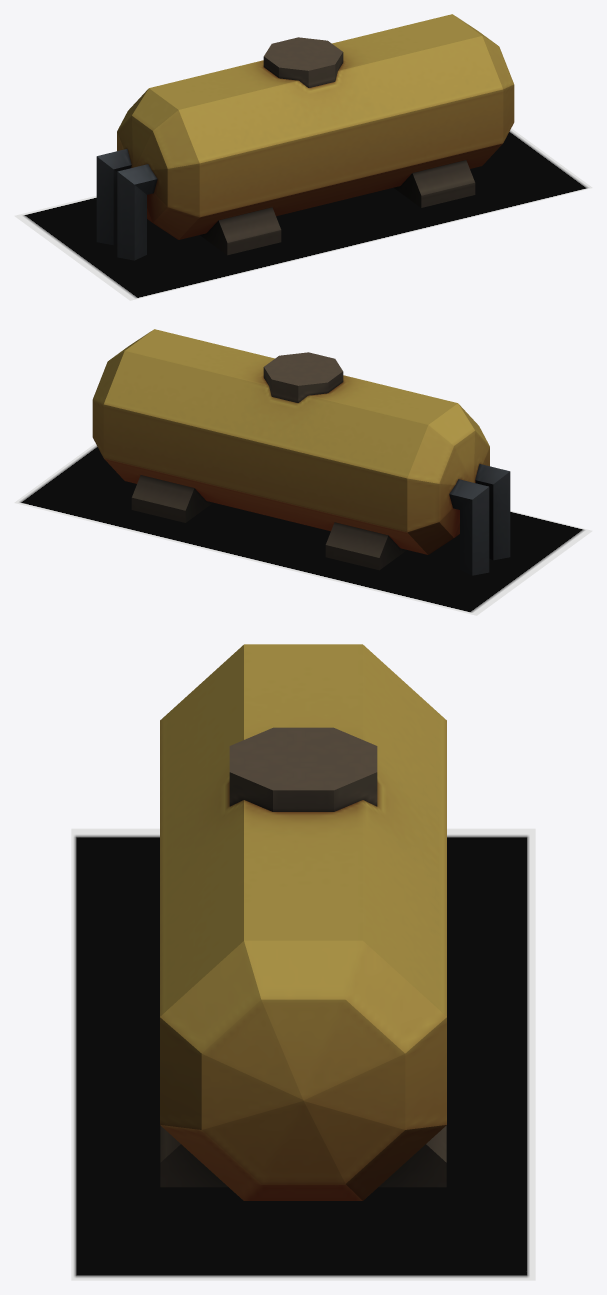
Rendered from 3x1_tank.FBX.
3 views of the same model, one above another, from view 1: azimuth 30°, elevation 25°; view 2: azimuth 150°, elevation 25°; view 3: azimuth 270°, elevation 25° (orthographic). The views are drawn at different scales.
Visible parts, largest first — view 1: 3x1_tank, 3x1_tank_soft_shadow; view 2: 3x1_tank, 3x1_tank_soft_shadow; view 3: 3x1_tank, 3x1_tank_soft_shadow.
Part boxes in pixels (x1,y1,x2,y2): 3x1_tank: (96, 14, 514, 260); 3x1_tank_soft_shadow: (14, 128, 592, 300); 3x1_tank: (92, 329, 510, 575); 3x1_tank_soft_shadow: (14, 443, 592, 615); 3x1_tank: (160, 644, 446, 1200); 3x1_tank_soft_shadow: (71, 828, 535, 1280).
Bounding box in the file's own units: 3366 × 1040 × 1463.
